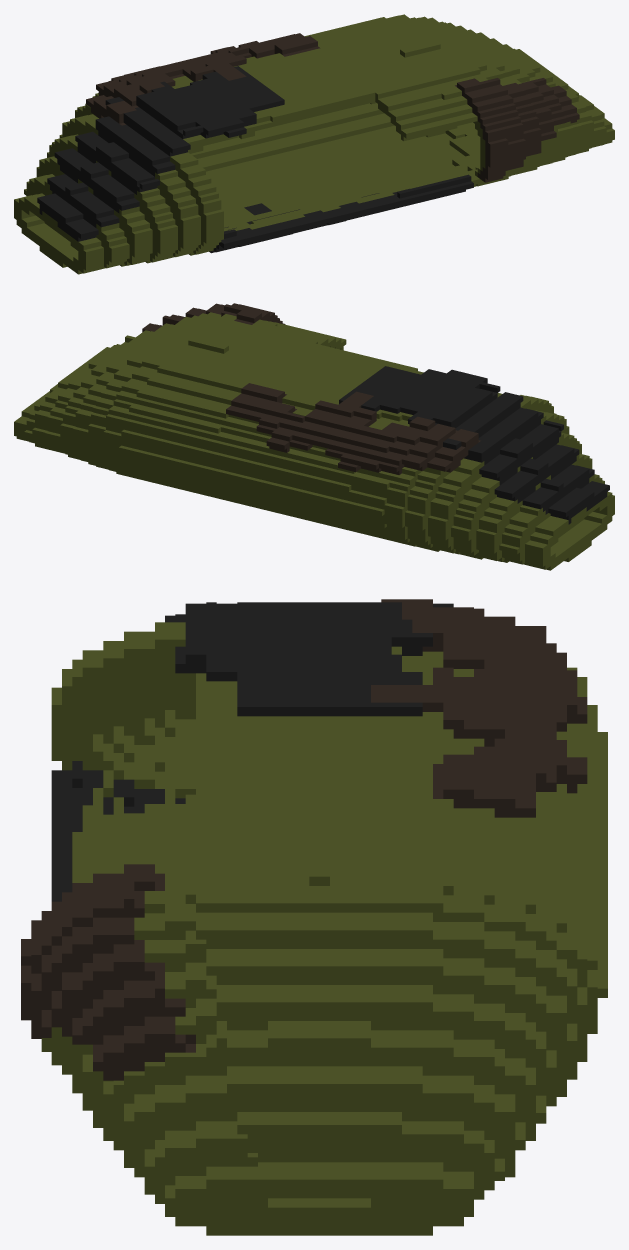
Rendered from crashed_military_helicopter_cowling.glb.
The picture shows the model from 3 angles, top to bottom: view 1: azimuth 30°, elevation 25°; view 2: azimuth 150°, elevation 25°; view 3: azimuth 270°, elevation 25°; orthographic projection. The views are drawn at different scales.
Visible parts, largest first — view 1: body:compound; view 2: body:compound; view 3: body:compound.
Boxes of the visible parts, <box> form: body:compound: <box>14,14,614,274</box>; body:compound: <box>14,303,614,570</box>; body:compound: <box>21,599,607,1235</box>.
Size of the model in its own units: 3.69 by 0.8125 by 1.78.
